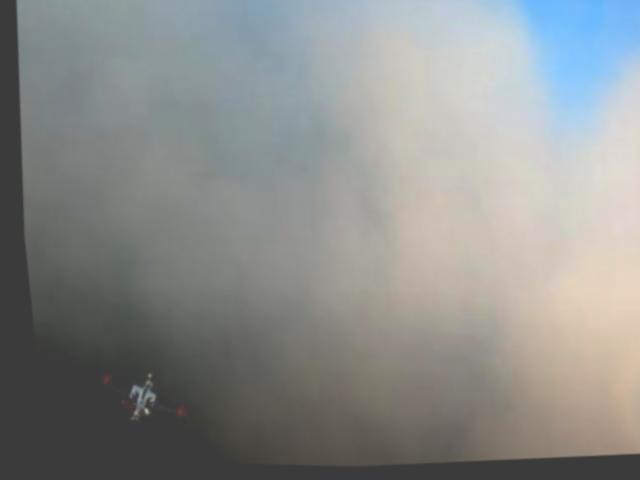iha: (85, 356, 181, 432)
